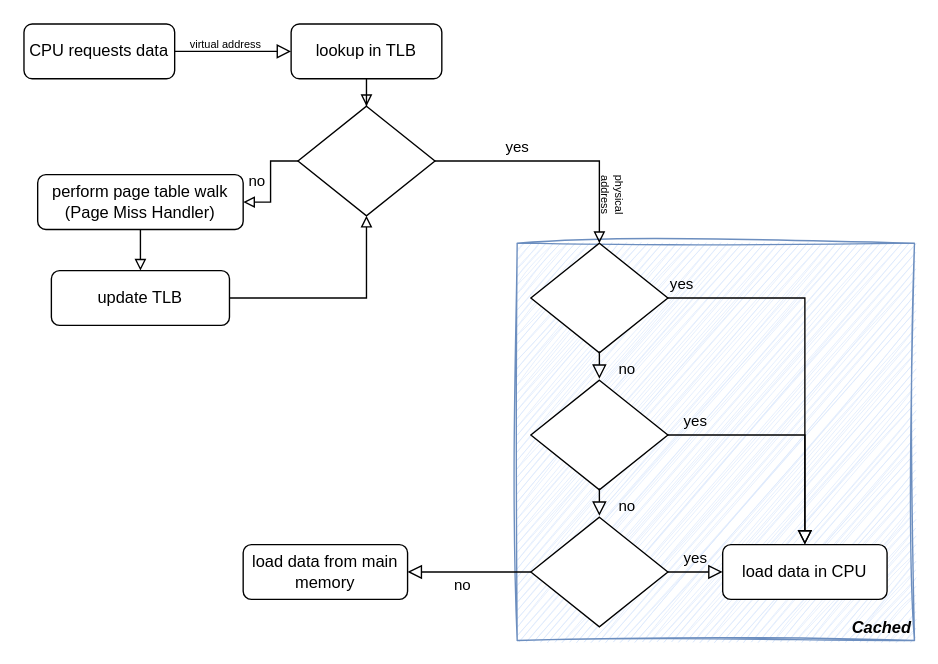
This 938x664 diagram has some shape labels left out. The shapes that lost their labels are listed below. From the top down, each one's box as (x1, y1, x2, y2) in pixels, then its label:
(297, 105, 435, 216): TLB Lookup hit?
(530, 242, 668, 353): data in L1 Cache?
(530, 379, 668, 490): data in L2 Cache?
(530, 516, 668, 627): data in L3 Cache?
